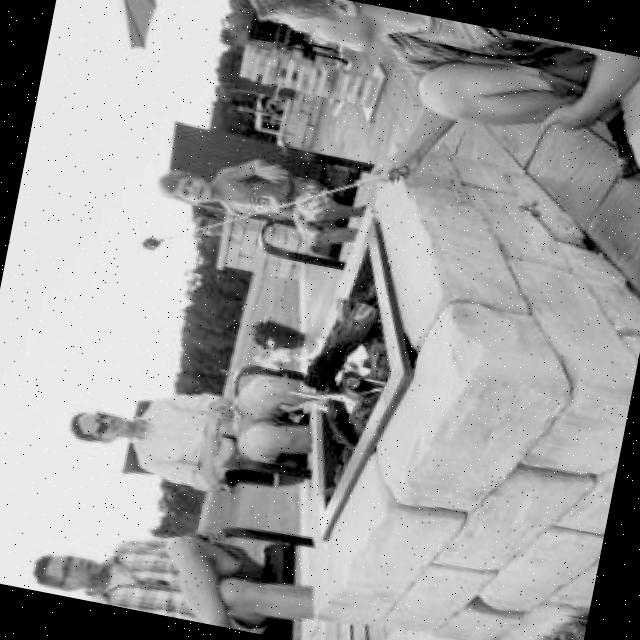fire: (242, 325, 395, 435)
